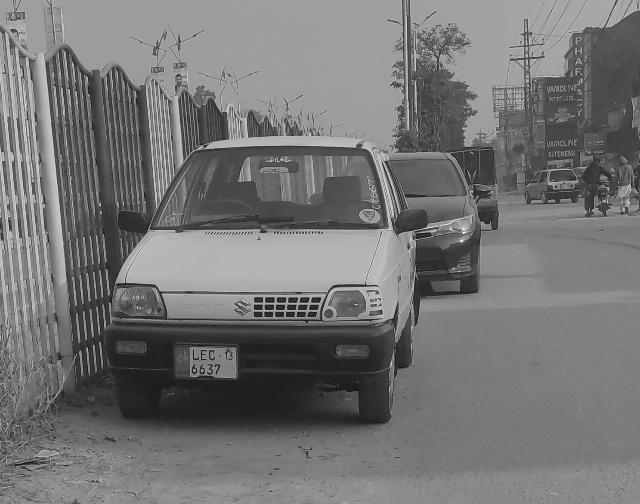Number: (188, 350, 220, 376)
